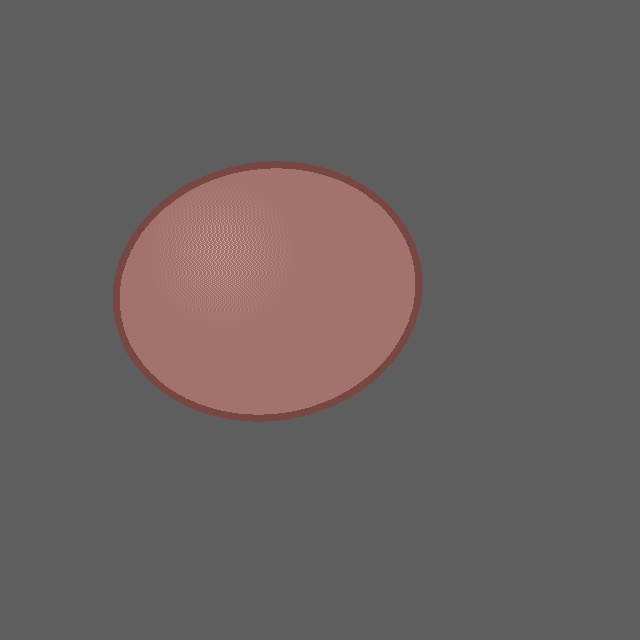lens: (117, 165, 417, 417)
